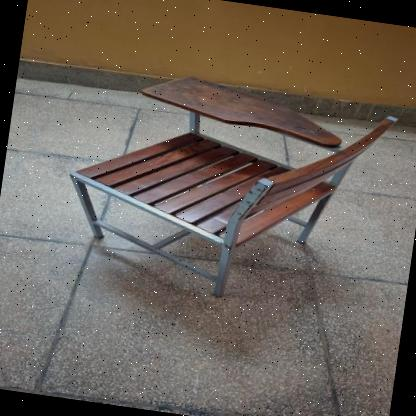chair: (32, 52, 407, 322)
